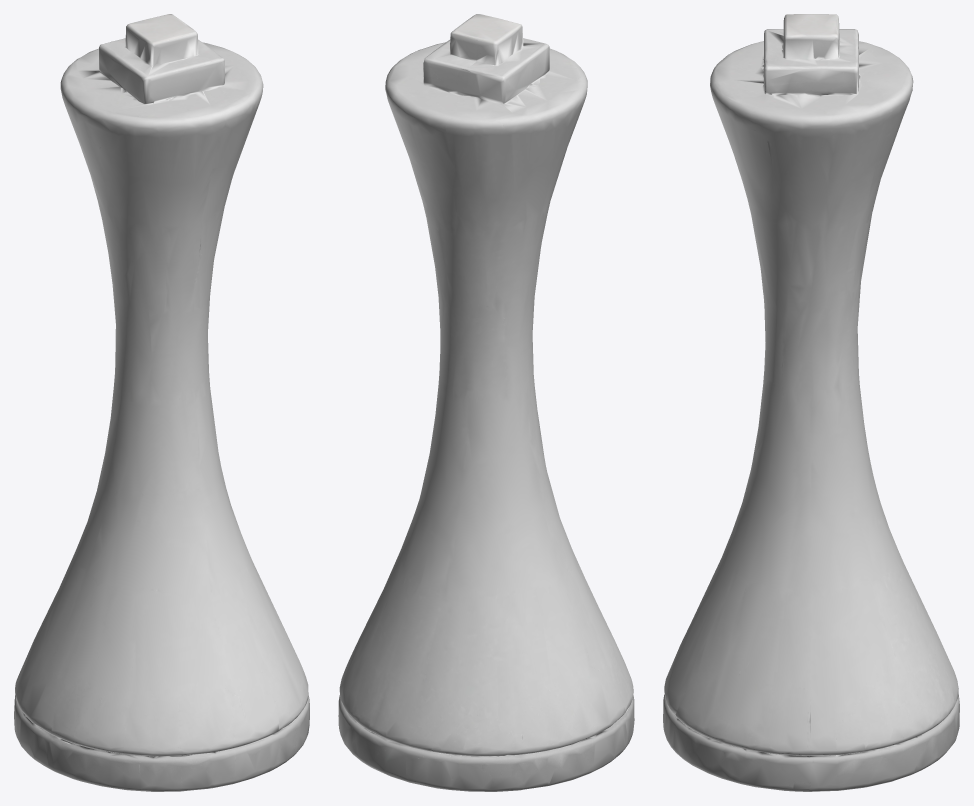
The model's file is king-white.glb.
3 views of the same model, side by side, from view 1: azimuth 30°, elevation 25°; view 2: azimuth 150°, elevation 25°; view 3: azimuth 270°, elevation 25° (orthographic).
Size of the model in its own units: 0.6647 by 1.75 by 0.6649.
Materials: 1 (1 with a texture image).
